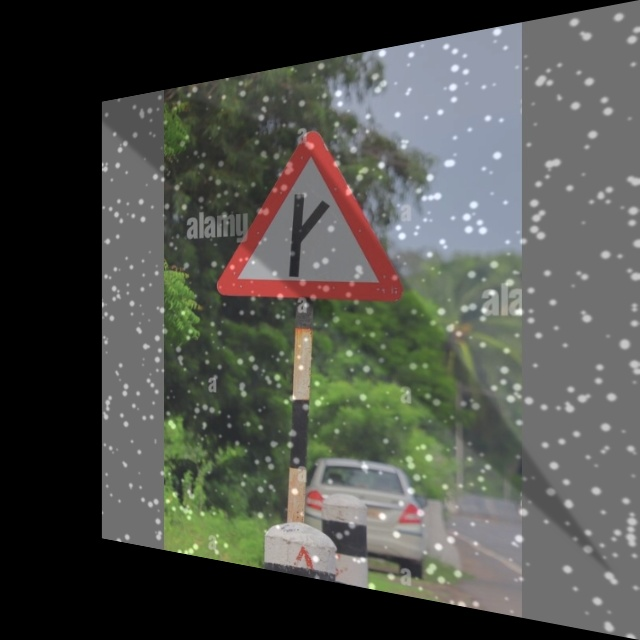Y_Intersection: (217, 114, 412, 307)
